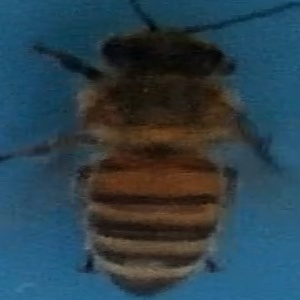bee: (32, 3, 285, 295)
